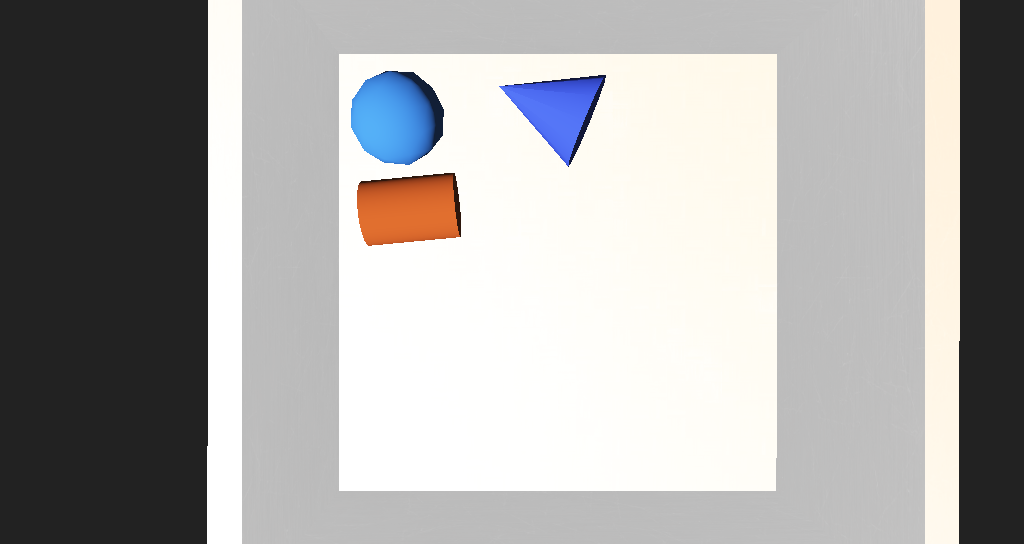cone: (367, 222, 441, 255)
cylinder: (445, 148, 539, 224)
sphere: (367, 174, 428, 217)
